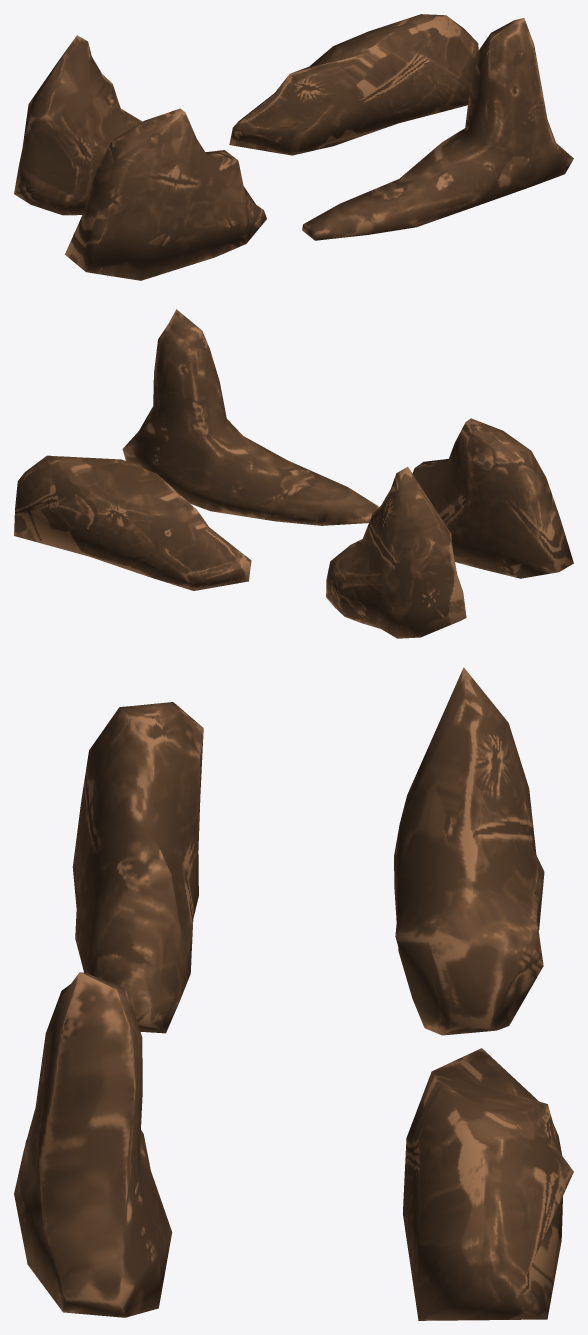
Rendered from MediumRocks.gltf.
3 renders of one model, top to bottom at view 1: azimuth 30°, elevation 25°; view 2: azimuth 150°, elevation 25°; view 3: azimuth 270°, elevation 25°, orthographic. The views are drawn at different scales.
Visible parts, largest first — view 1: MediumRock3_low, MediumRock1_low, MediumRock2_low, MediumRock4_low; view 2: MediumRock1_low, MediumRock2_low, MediumRock3_low, MediumRock4_low; view 3: MediumRock4_low, MediumRock1_low, MediumRock2_low, MediumRock3_low.
Boxes of the visible parts, x1,y1,x2,y2 form: MediumRock3_low: (65, 108, 266, 280); MediumRock1_low: (302, 18, 573, 240); MediumRock2_low: (229, 14, 478, 155); MediumRock4_low: (14, 35, 142, 215); MediumRock1_low: (122, 309, 378, 525); MediumRock2_low: (14, 455, 251, 590); MediumRock3_low: (412, 418, 573, 578); MediumRock4_low: (326, 466, 466, 638); MediumRock4_low: (394, 667, 544, 1035); MediumRock1_low: (14, 972, 172, 1317); MediumRock2_low: (403, 1048, 573, 1320); MediumRock3_low: (72, 702, 203, 1033).
Size of the model in its own units: 7.27 by 2.58 by 3.78.
Materials: 1 (1 with a texture image).
